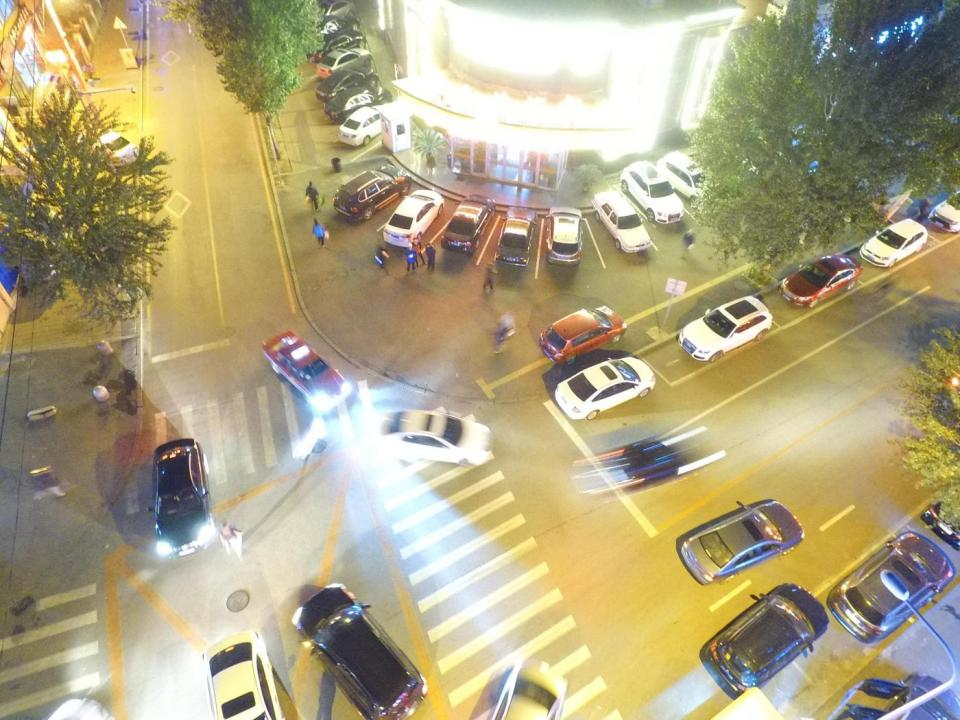car: (290, 582, 428, 720), (826, 530, 955, 645), (704, 582, 829, 696), (680, 498, 805, 587), (200, 628, 287, 719), (152, 437, 216, 559), (261, 328, 351, 413), (368, 407, 491, 468), (678, 294, 774, 364), (538, 304, 628, 368), (484, 655, 568, 720), (778, 252, 864, 310), (332, 162, 412, 224), (858, 671, 960, 719), (619, 160, 686, 225), (656, 150, 728, 209), (590, 188, 653, 254), (818, 677, 909, 720), (382, 188, 445, 247), (858, 217, 929, 269), (440, 192, 496, 256), (920, 479, 960, 553), (494, 204, 538, 268), (315, 61, 380, 103), (322, 85, 393, 123), (545, 204, 584, 270), (338, 106, 396, 147), (303, 27, 366, 64), (314, 45, 374, 80), (298, 14, 360, 47), (292, 0, 356, 30), (95, 130, 140, 166), (928, 186, 960, 232)
